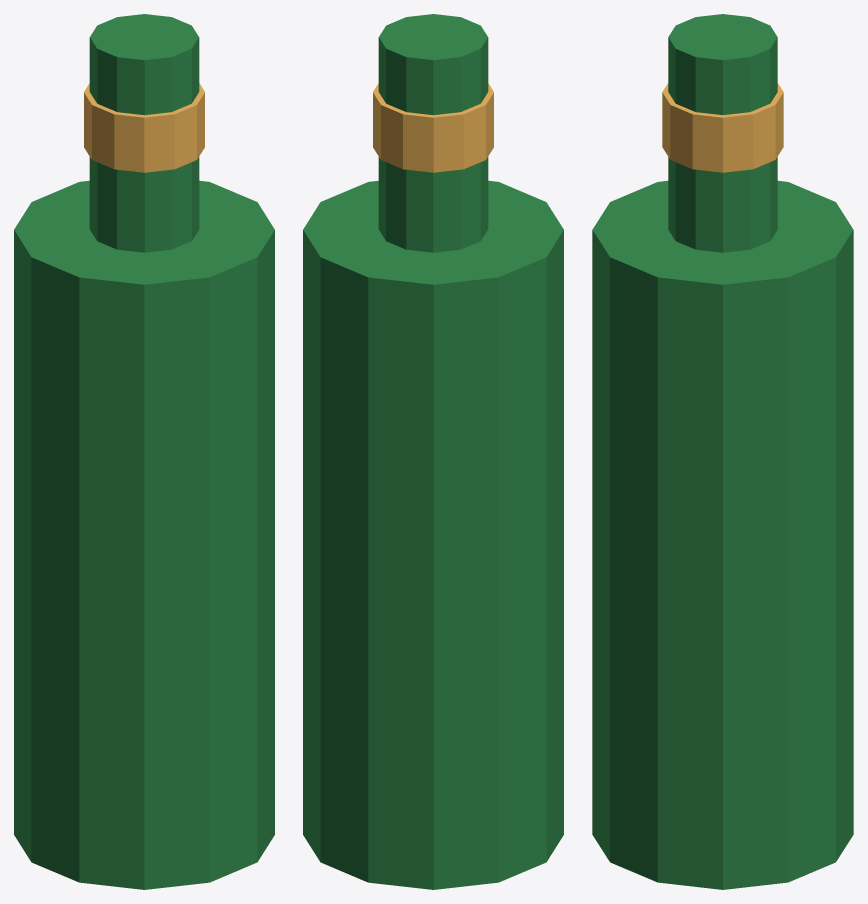
File: bottle.obj
3 views of the same model, side by side, from view 1: azimuth 30°, elevation 25°; view 2: azimuth 150°, elevation 25°; view 3: azimuth 270°, elevation 25° (orthographic).
Bounding box in the file's own units: 0.086 × 0.29 × 0.086.
